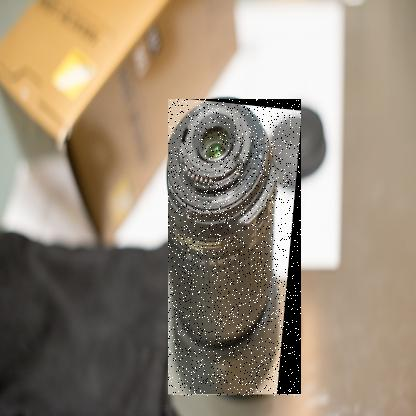Camera: (169, 101, 303, 399)
